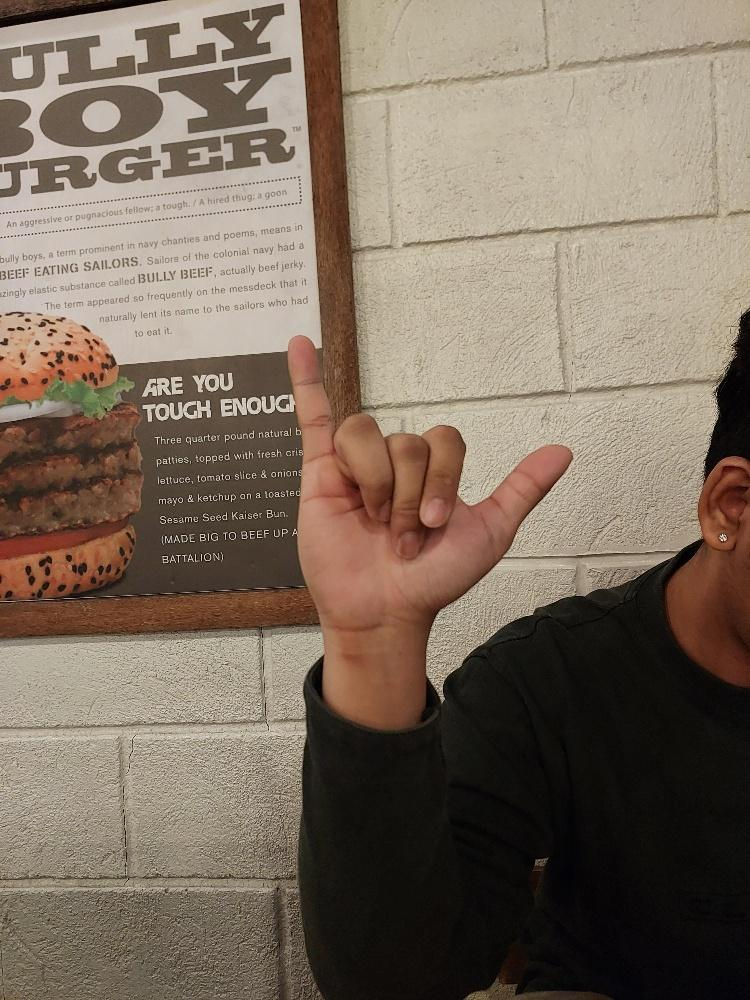y: (285, 332, 575, 634)
